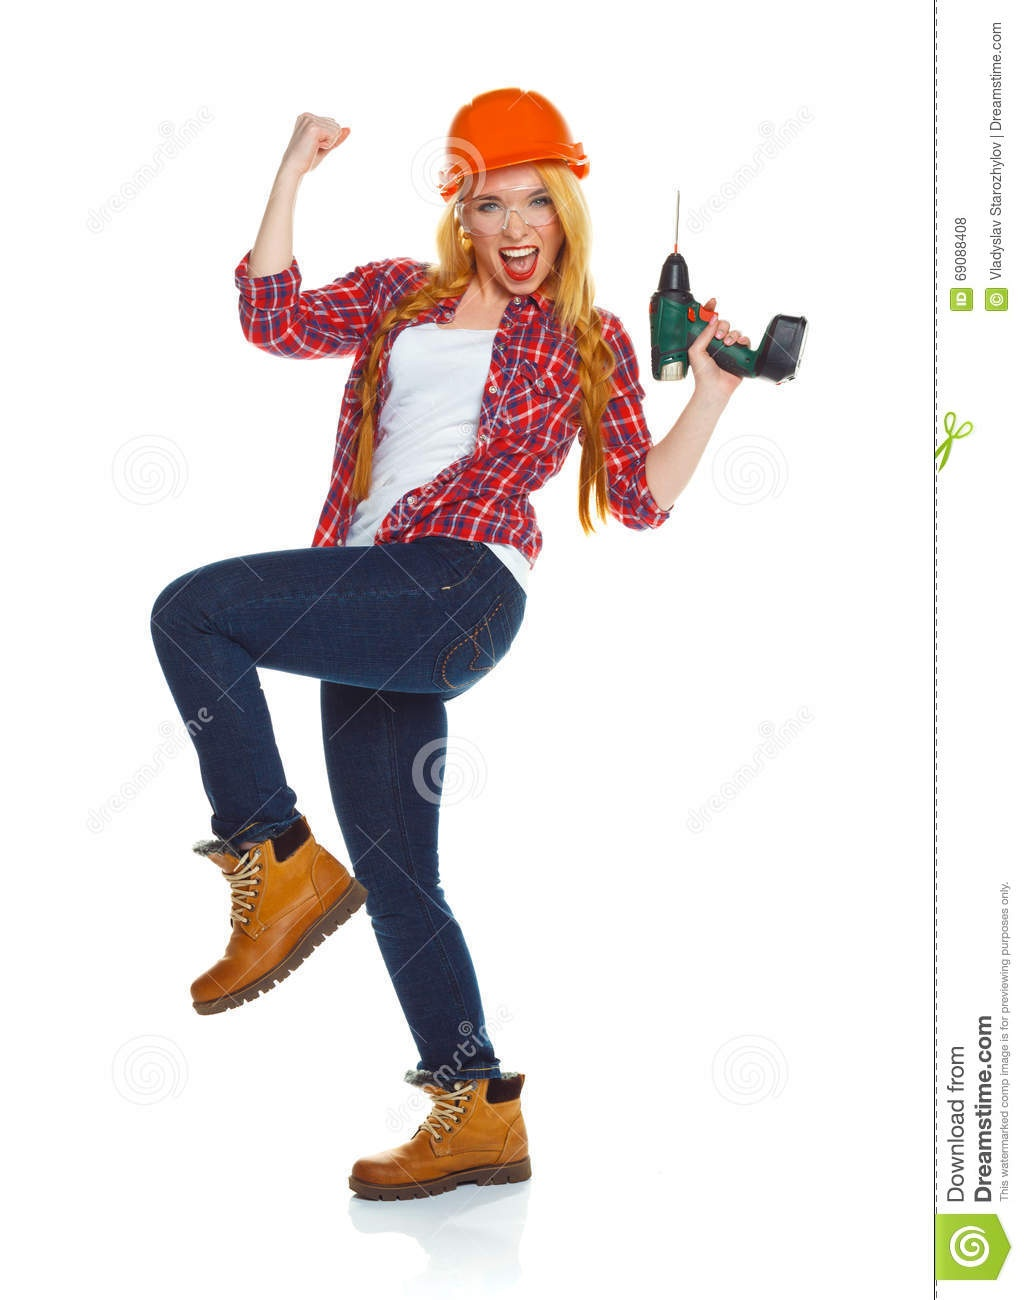yellow: (436, 93, 595, 295)
